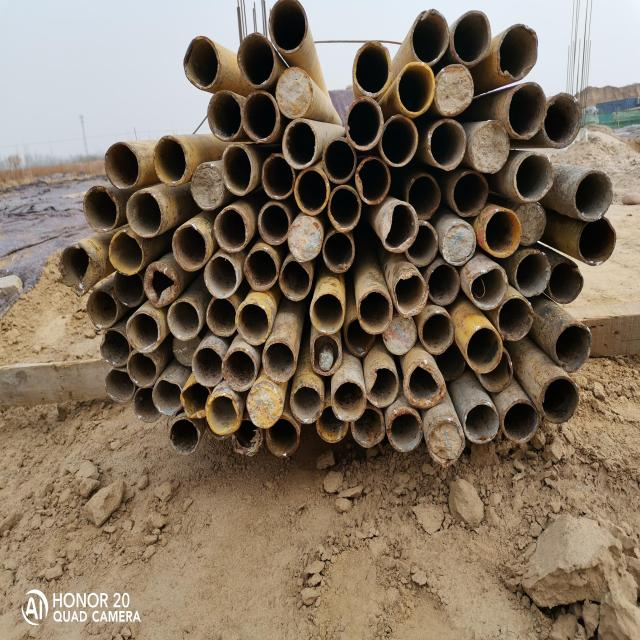pipe: (234, 29, 276, 88), (498, 21, 539, 78), (506, 82, 547, 139), (409, 9, 451, 63), (450, 10, 492, 64), (352, 40, 394, 94), (268, 0, 309, 54), (424, 416, 465, 470), (543, 92, 583, 147), (242, 89, 280, 144), (470, 121, 510, 173), (434, 63, 474, 114), (184, 34, 219, 92), (102, 142, 143, 191), (574, 168, 611, 222), (513, 151, 555, 198), (554, 322, 594, 371), (276, 66, 312, 120), (427, 120, 465, 171), (345, 96, 382, 148), (382, 114, 419, 166), (168, 223, 208, 271), (406, 362, 446, 410), (221, 140, 255, 196), (396, 65, 434, 114), (483, 209, 522, 256), (451, 170, 489, 218), (386, 406, 424, 454), (150, 138, 188, 185), (126, 189, 162, 238), (212, 207, 248, 256), (512, 254, 552, 298), (283, 118, 318, 168), (83, 186, 119, 234), (234, 302, 270, 349), (58, 243, 91, 294), (580, 218, 614, 267), (189, 165, 226, 210), (465, 326, 502, 371), (326, 186, 362, 232), (260, 154, 296, 200), (498, 295, 533, 342), (142, 262, 181, 304), (286, 214, 324, 257), (330, 378, 367, 422), (462, 400, 499, 444), (541, 378, 576, 424), (406, 176, 442, 220), (203, 254, 239, 298), (208, 91, 240, 140), (406, 222, 440, 268), (295, 168, 329, 214), (244, 246, 278, 292), (353, 162, 390, 204), (471, 266, 508, 308), (360, 286, 392, 334), (111, 267, 147, 309), (392, 272, 428, 314), (502, 402, 538, 444), (442, 222, 477, 265), (248, 384, 282, 428), (266, 413, 300, 457), (480, 349, 515, 391), (279, 260, 313, 303), (220, 351, 256, 391), (168, 298, 202, 340), (367, 362, 398, 408), (109, 231, 142, 274), (420, 310, 452, 354), (83, 290, 120, 328), (548, 262, 582, 303), (204, 295, 237, 337), (192, 346, 224, 389), (206, 396, 242, 434), (308, 294, 344, 332), (260, 202, 291, 246), (384, 314, 418, 354), (180, 380, 213, 421), (323, 139, 353, 184), (516, 203, 547, 246), (307, 336, 342, 374), (315, 404, 349, 443), (126, 312, 159, 352), (291, 383, 324, 423), (323, 231, 355, 272), (429, 265, 460, 306), (386, 204, 416, 246), (166, 418, 202, 453), (126, 350, 158, 387), (354, 407, 386, 444), (344, 317, 375, 354), (152, 378, 182, 415), (100, 331, 130, 367), (104, 366, 134, 401), (232, 423, 262, 455), (134, 388, 161, 423), (171, 333, 199, 366)
